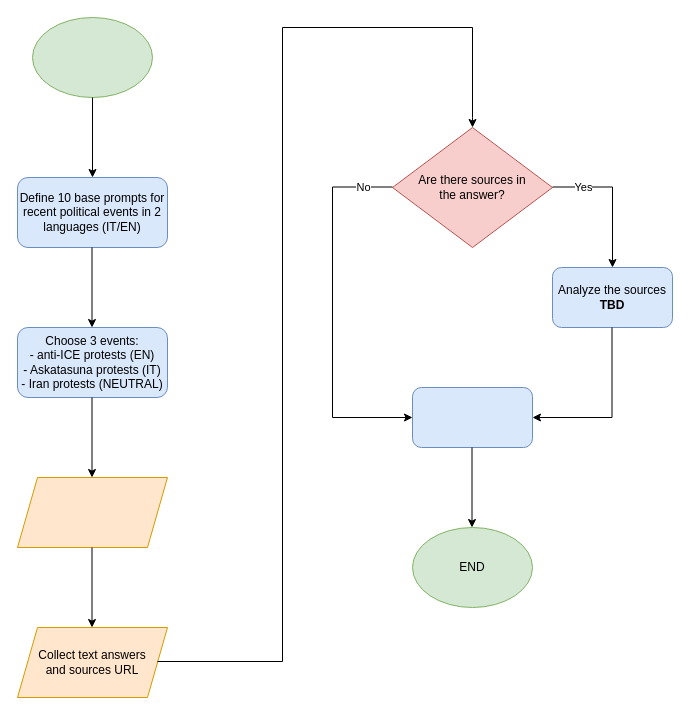
Some shapes in this 690 by 715 pixel diagram are drawn without their labels. The centre of each missing label's shape, as x and y in pixels:
Analyze the answer TBD: point (472, 417)
Execute 10 x 2 x 3 = 60 prompts in 3 LLMs (chatGPT, Mistral, DeepSeek): point (92, 512)
START: point (92, 57)
